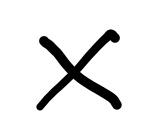mult: (36, 29, 122, 110)
